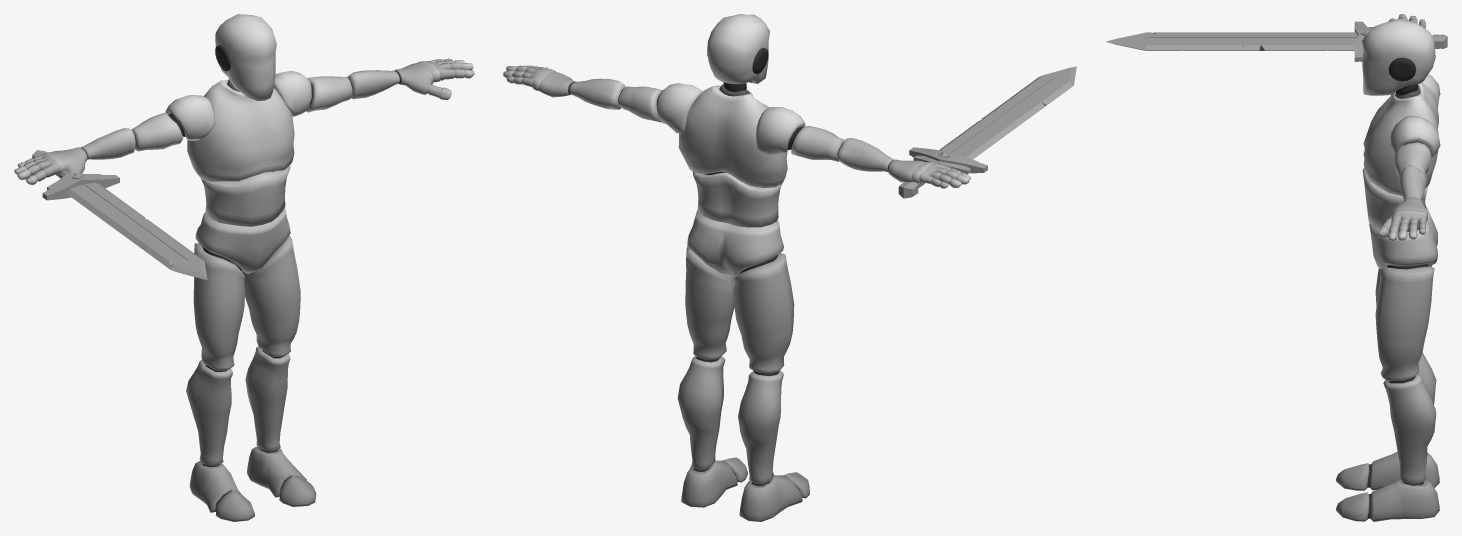
The model's file is troop_infantry.glb.
3 views of the same model, side by side, from view 1: azimuth 30°, elevation 25°; view 2: azimuth 150°, elevation 25°; view 3: azimuth 270°, elevation 25° (orthographic).
Parts seen in each view (by area): view 1: troop_infantry; view 2: troop_infantry; view 3: troop_infantry.
Part boxes in pixels (left/top/right/bottom): troop_infantry: left=14, top=14, right=474, bottom=521; troop_infantry: left=503, top=14, right=1076, bottom=521; troop_infantry: left=1106, top=14, right=1447, bottom=521.
Size of the model in its own units: 1.72 by 1.72 by 1.12.
2 materials, 2 textured.
